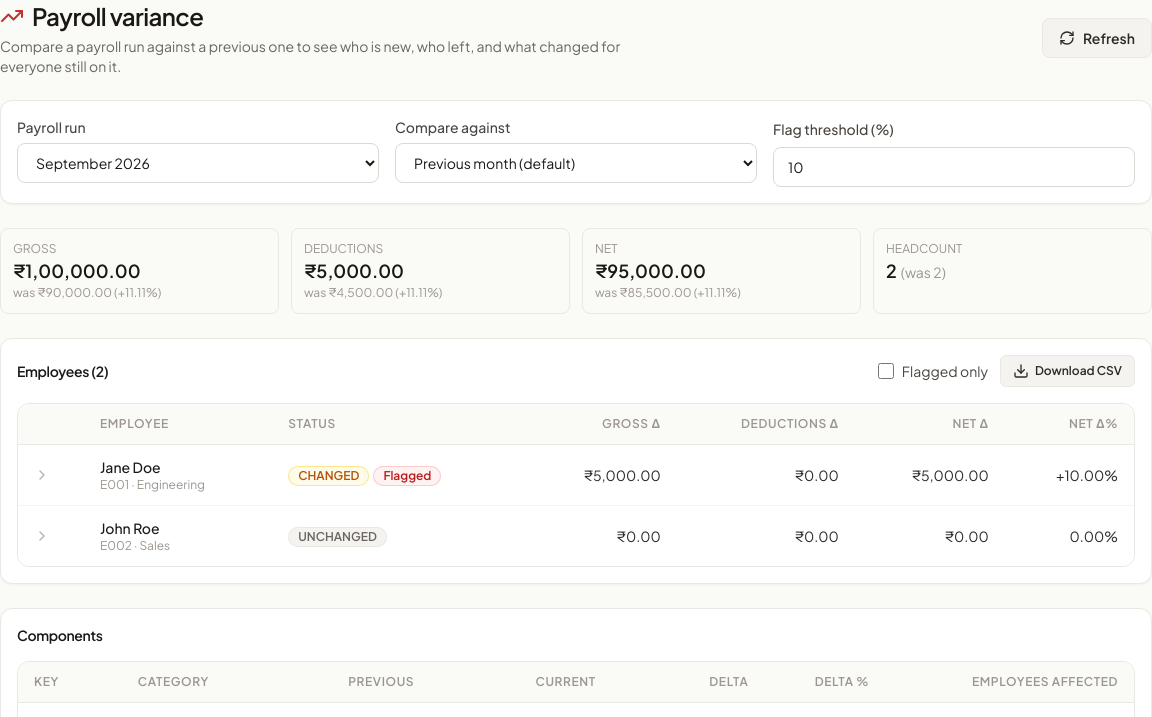
it: PayrollVariancePage › filters the employee table to flagged rows only
Check: the text "Jane Doe" is shown, box [100, 458, 161, 476]
Click the checkbox labelled "Flagged only". click: [886, 371]
box: [878, 363, 894, 379]
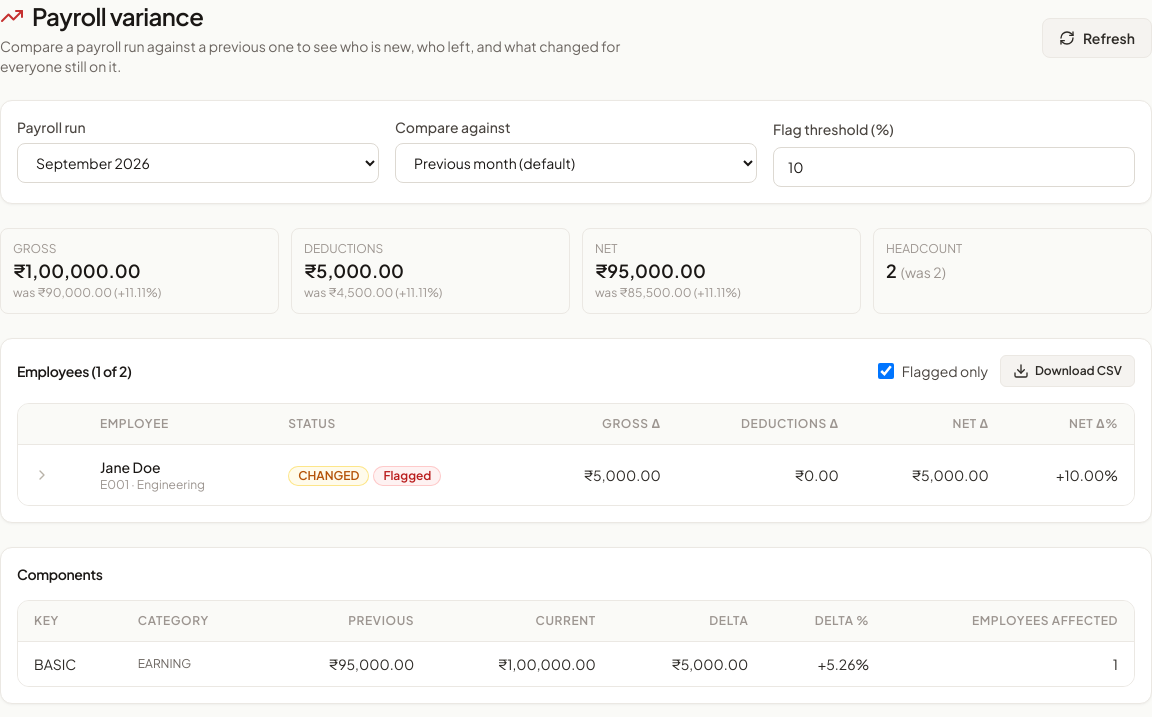
Check: the text "Jane Doe" is shown, box [100, 458, 161, 476]
Check: the text "John Roe" is gone
